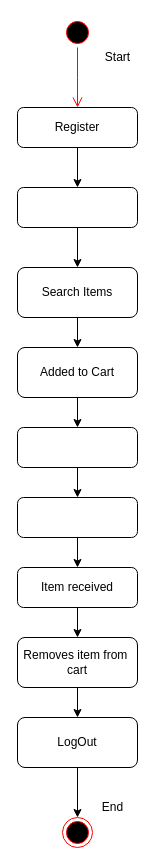
The diagram is 155 pixels wide and 865 high, and some of its shapes have lost their labels. Here are the shapes that lost their labels. From the top down, the centre of each, then its label:
At (x=77, y=207): "Login".
At (x=77, y=447): "Item Ordered".
At (x=77, y=517): "Payment".
